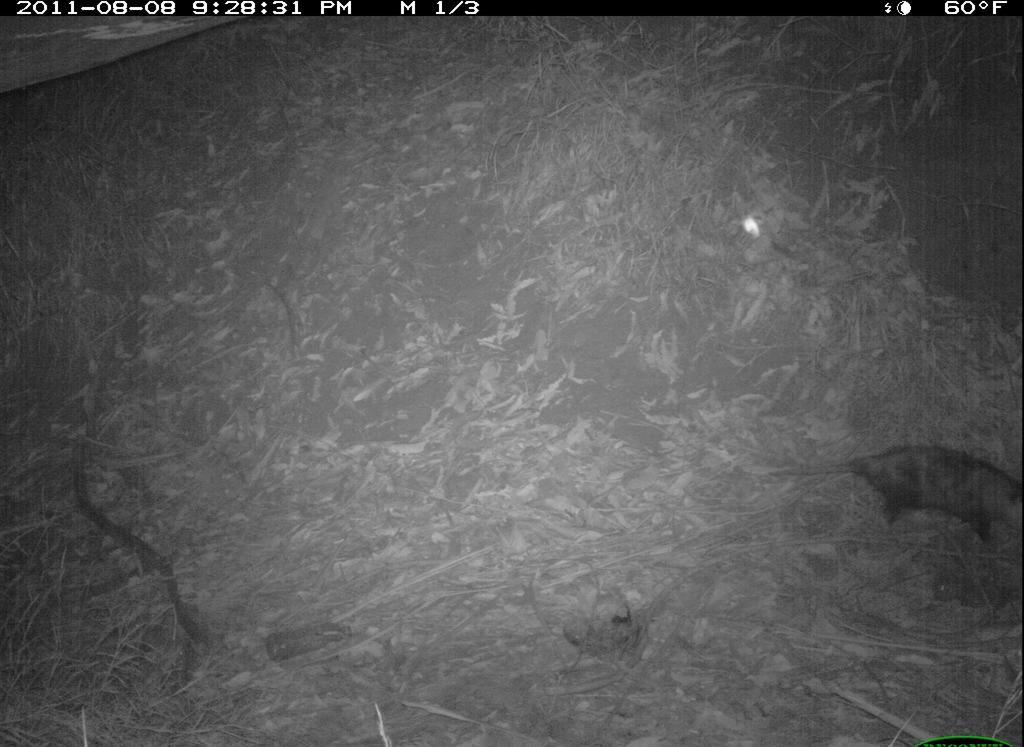opossum: (762, 420, 1021, 561)
